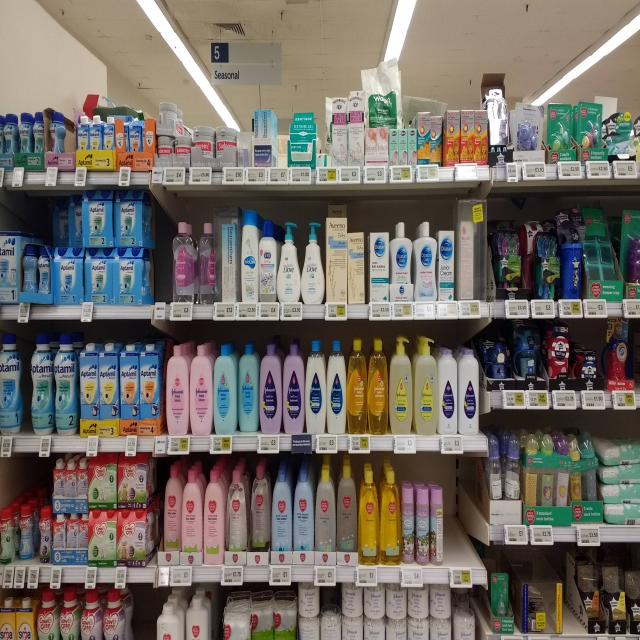void: (448, 459, 477, 556), (151, 214, 169, 302)
